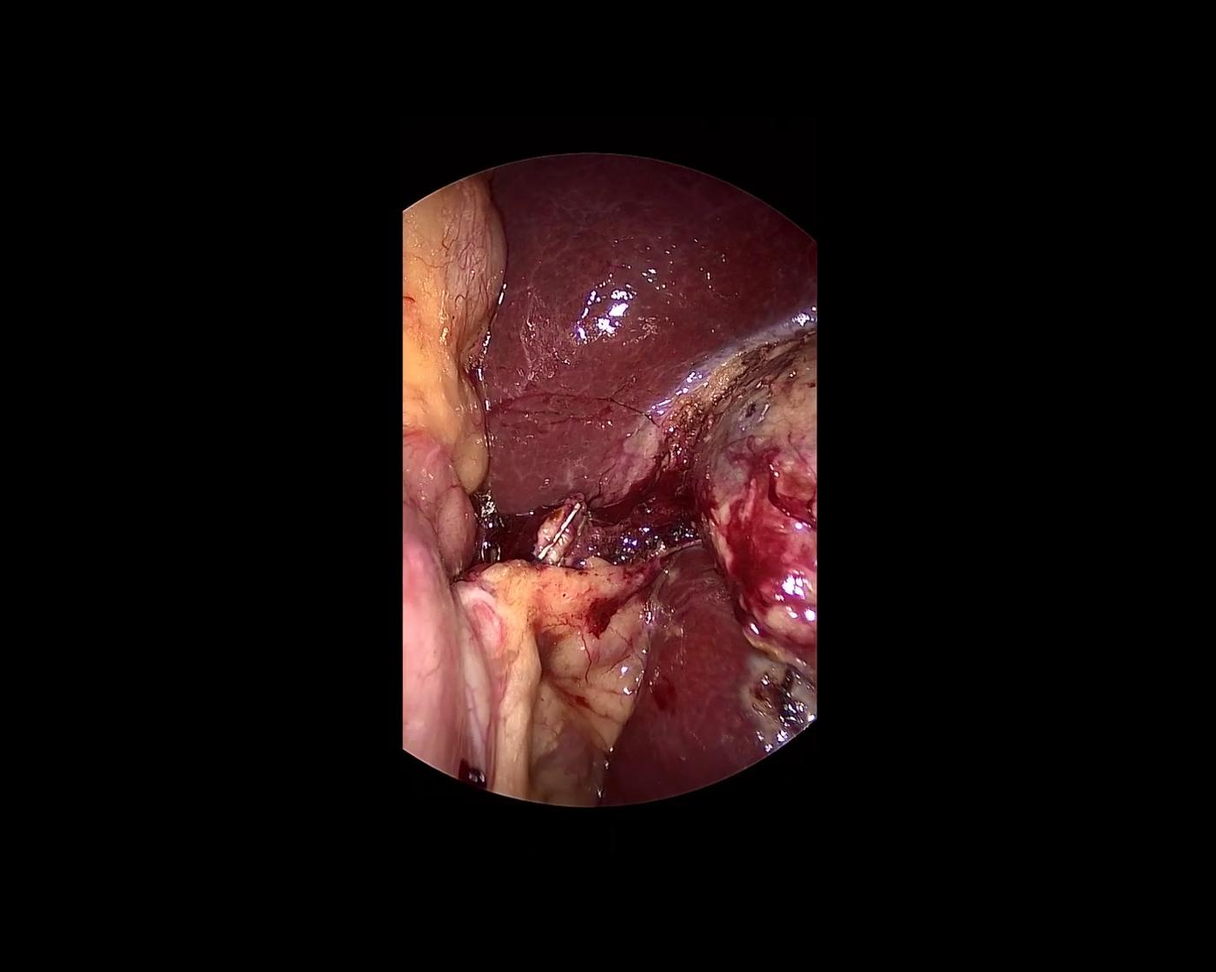Gallbladder: (695, 316, 814, 686)
Liver: (482, 154, 815, 513), (507, 538, 828, 855)
